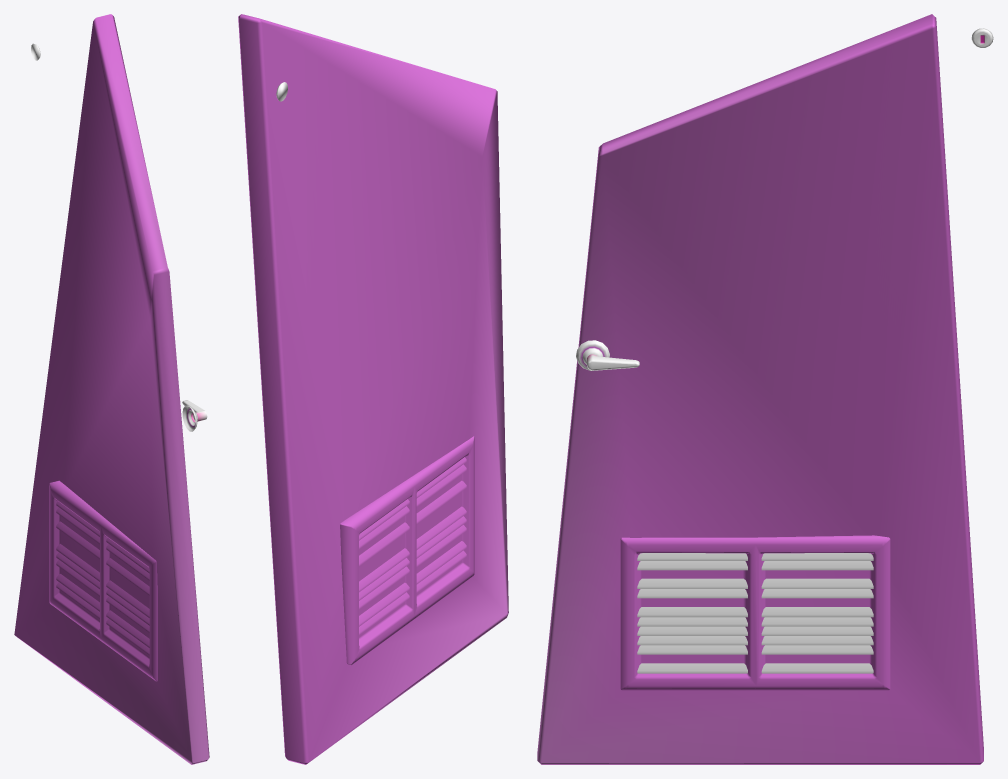
File: DoorBasementLock.fbx
The picture shows the model from 3 angles, left to right: view 1: azimuth 30°, elevation 25°; view 2: azimuth 150°, elevation 25°; view 3: azimuth 270°, elevation 25°; orthographic projection. The views are drawn at different scales.
Visible parts, largest first — view 1: SM_Door_Basement_A; view 2: SM_Door_Basement_A; view 3: SM_Door_Basement_A.
Boxes of the visible parts, x1,y1,x2,y2 form: SM_Door_Basement_A: (14, 14, 209, 764); SM_Door_Basement_A: (238, 14, 508, 764); SM_Door_Basement_A: (537, 14, 983, 764).
Size of the model in its own units: 28.28 by 181 by 96.2.
